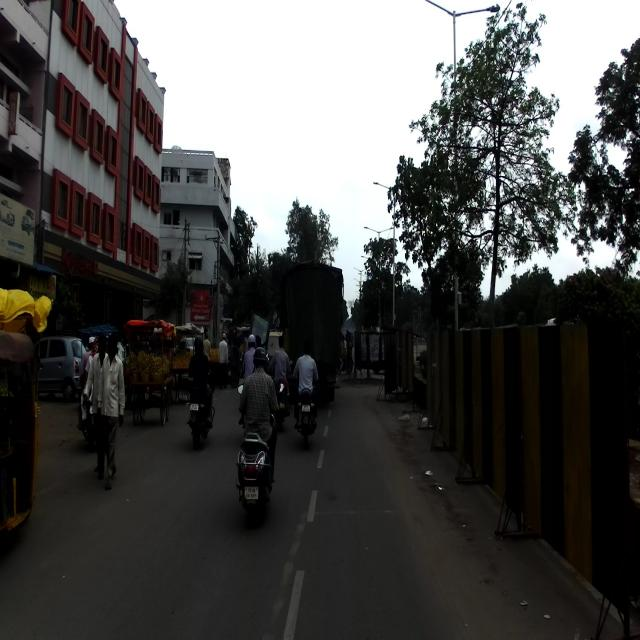motorcycle_Hero: (292, 375, 318, 445)
motorcycle_Honda: (186, 371, 215, 450)
scooter: (234, 382, 284, 526)
